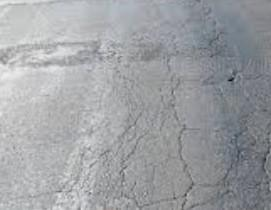crack: (88, 68, 252, 205)
